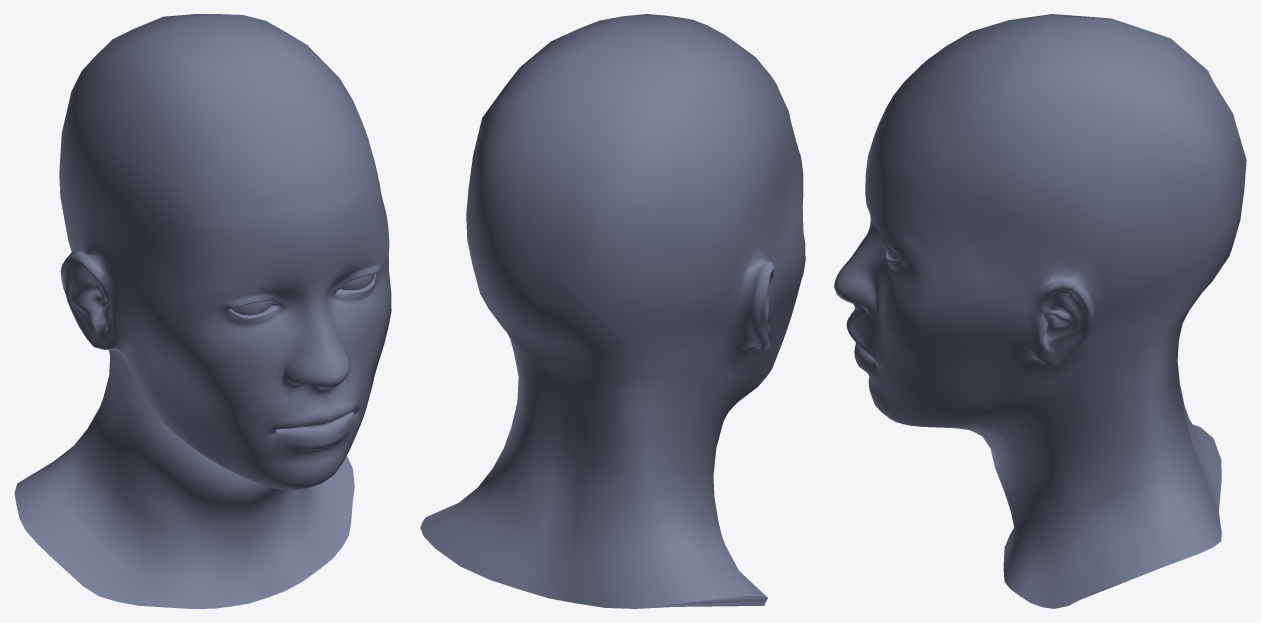
File: first_head.glb
3 renders of one model, left to right at view 1: azimuth 30°, elevation 25°; view 2: azimuth 150°, elevation 25°; view 3: azimuth 270°, elevation 25°, orthographic. The views are drawn at different scales.
Parts seen in each view (by area): view 1: Human_export_copy, Human.low-poly_export_copy; view 2: Human_export_copy; view 3: Human_export_copy.
Boxes of the visible parts, x1,y1,x2,y2 form: Human_export_copy: (14,14,391,608); Human.low-poly_export_copy: (231,273,373,315); Human_export_copy: (420,14,805,608); Human_export_copy: (834,14,1246,608).
Size of the model in its own units: 0.1829 by 0.2997 by 0.2082.
